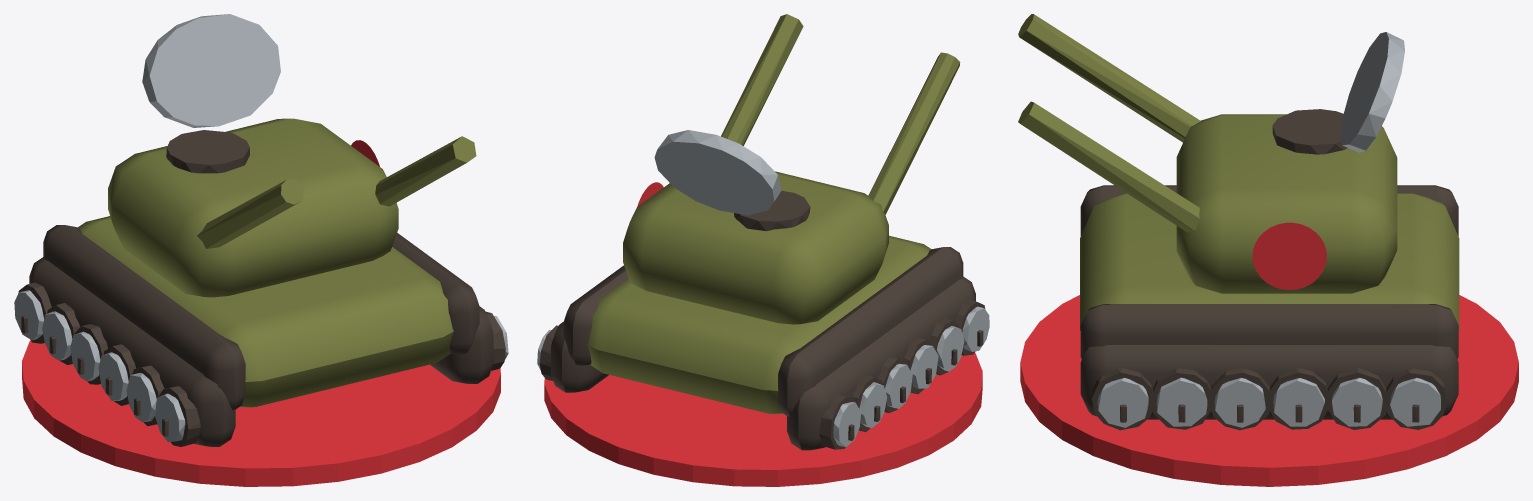
The model's file is japan_anti_aircraft_lod0.glb.
The picture shows the model from 3 angles, left to right: view 1: azimuth 30°, elevation 25°; view 2: azimuth 150°, elevation 25°; view 3: azimuth 270°, elevation 25°; orthographic projection. The views are drawn at different scales.
Visible parts, largest first — view 1: body_hull, base_pedestal; view 2: body_hull, base_pedestal; view 3: body_hull, base_pedestal.
Boxes of the visible parts, left/top/right/bottom form: body_hull: left=14, top=14, right=508, bottom=446; base_pedestal: left=22, top=340, right=500, bottom=486; body_hull: left=537, top=14, right=989, bottom=450; base_pedestal: left=544, top=353, right=982, bottom=486; body_hull: left=1018, top=14, right=1459, bottom=430; base_pedestal: left=1020, top=295, right=1518, bottom=486.
Size of the model in its own units: 0.7766 by 0.5837 by 0.7802.
